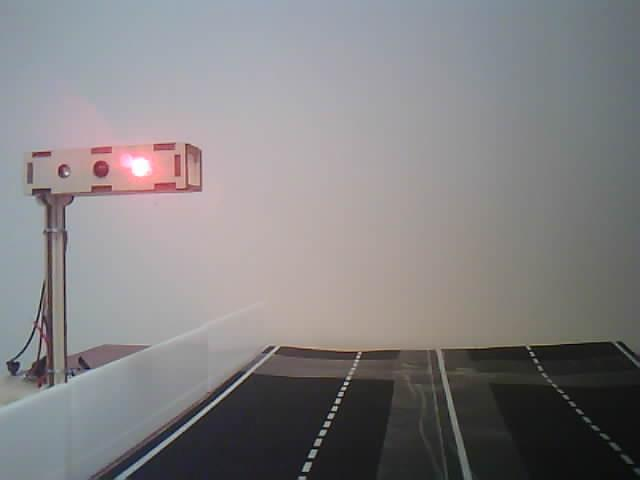red: (23, 141, 218, 210)
